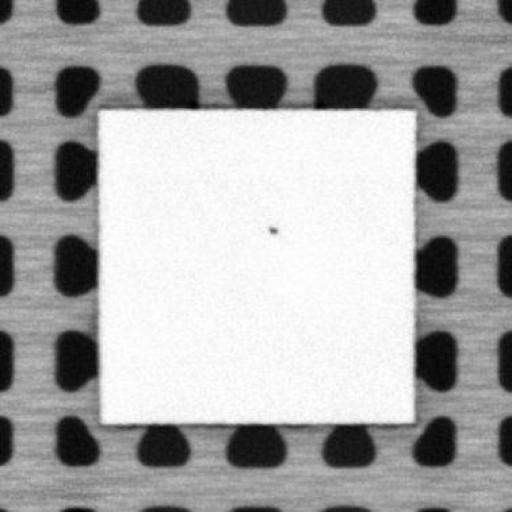DIE_INK: (266, 222, 279, 235)
